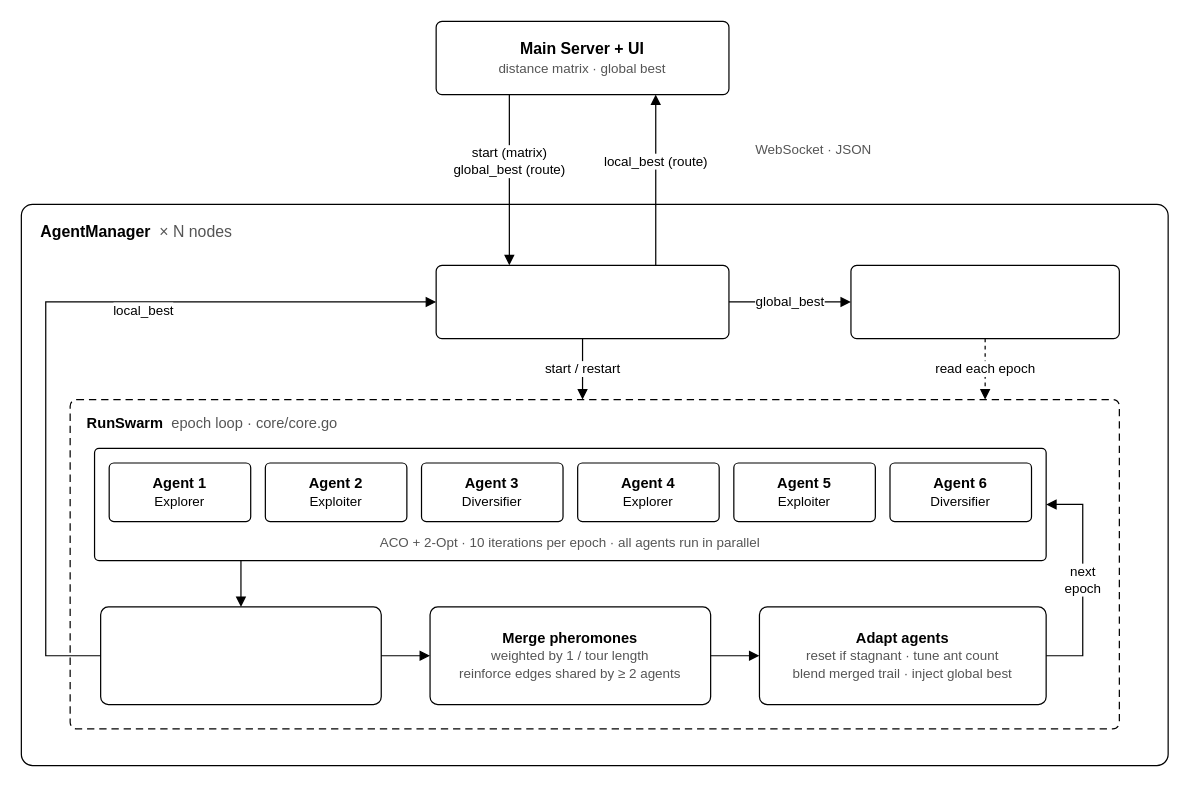
This 1190x787 diagram has some shape labels left out. The centre of each missing label's shape, as x and y in pixels:
"Global best route + distance" belongs at (984,301).
"Report send local_best if the epoch's best improved" belongs at (240,655).
"WebSocket handler /ws · conn/connection.go" belongs at (582,301).
